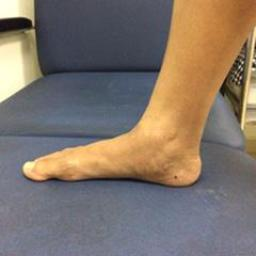Medial View -Right Foot-: (18, 96, 221, 195)
